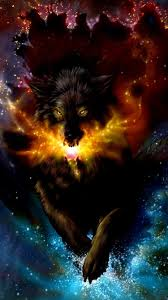Lobo: (15, 61, 126, 153)
